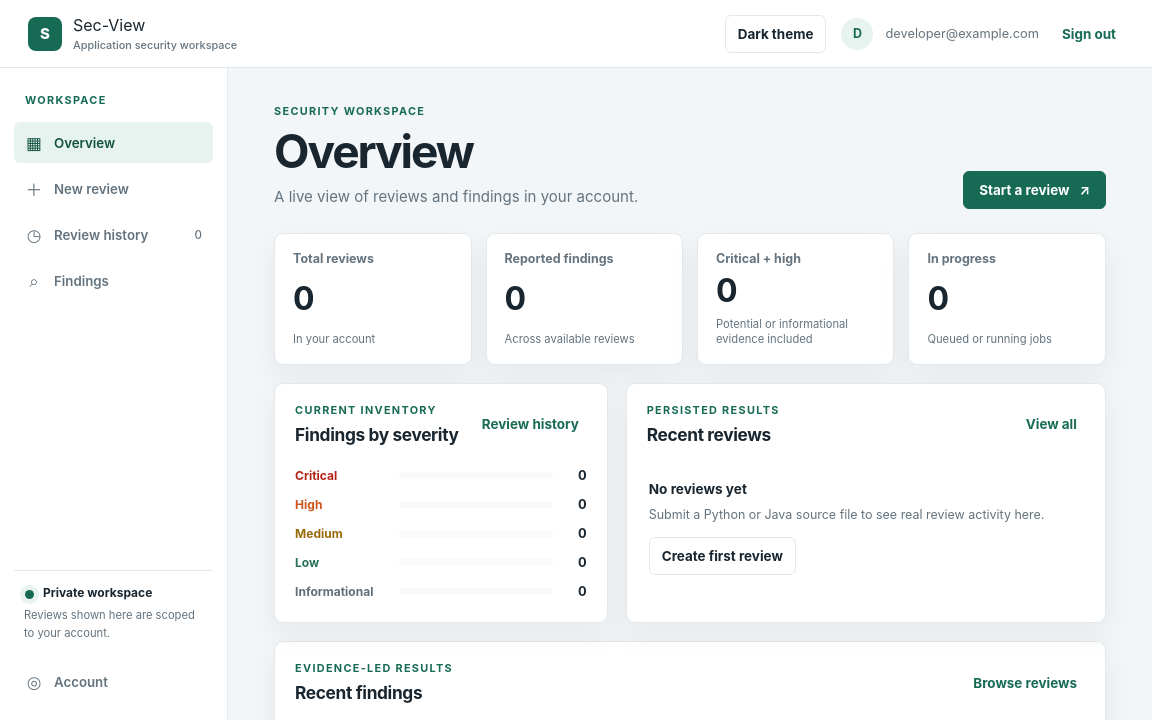
Test case: review workspace sections › submits Quick Analyze through the existing review API and renders actual findings
The width and height of the screenshot is (1152, 720).
Expected: the heading "Overview" is shown, top-left (274, 123), bottom-right (473, 179)
Click the button "＋ New review" at (114,188), box top-left (14, 168), bottom-right (213, 209)
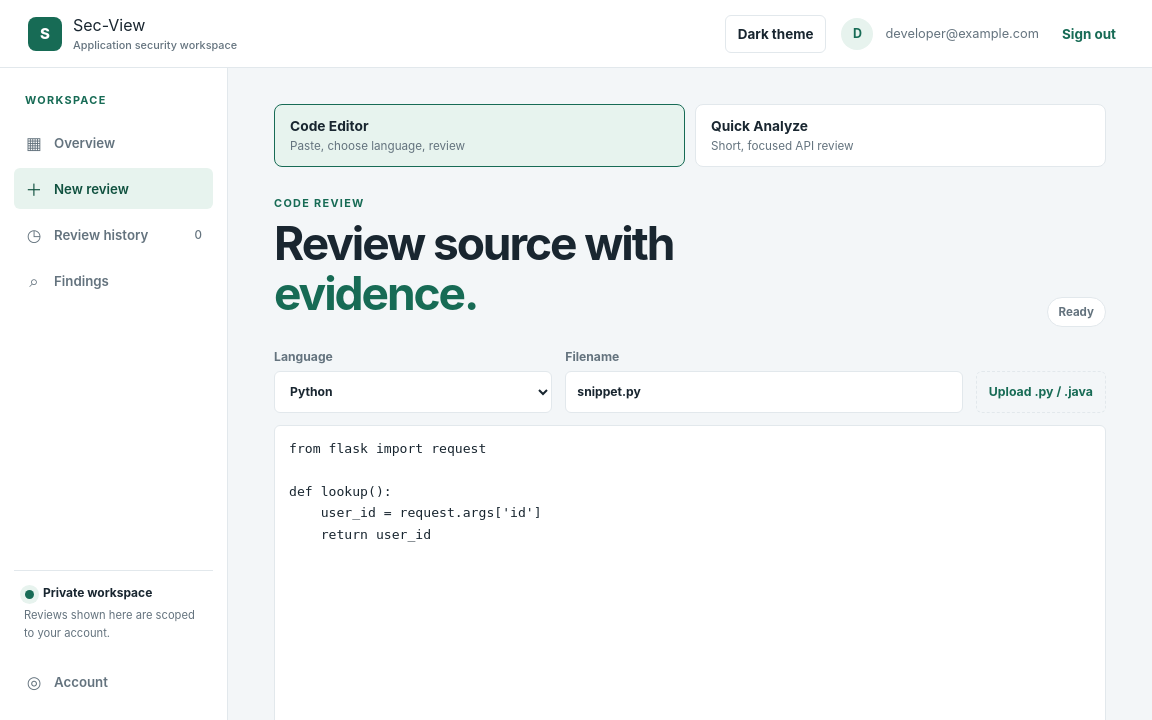
Click the button "Quick Analyze Short, focused API review" at (760,126), box top-left (695, 104), bottom-right (1106, 167)
(page scrolled)
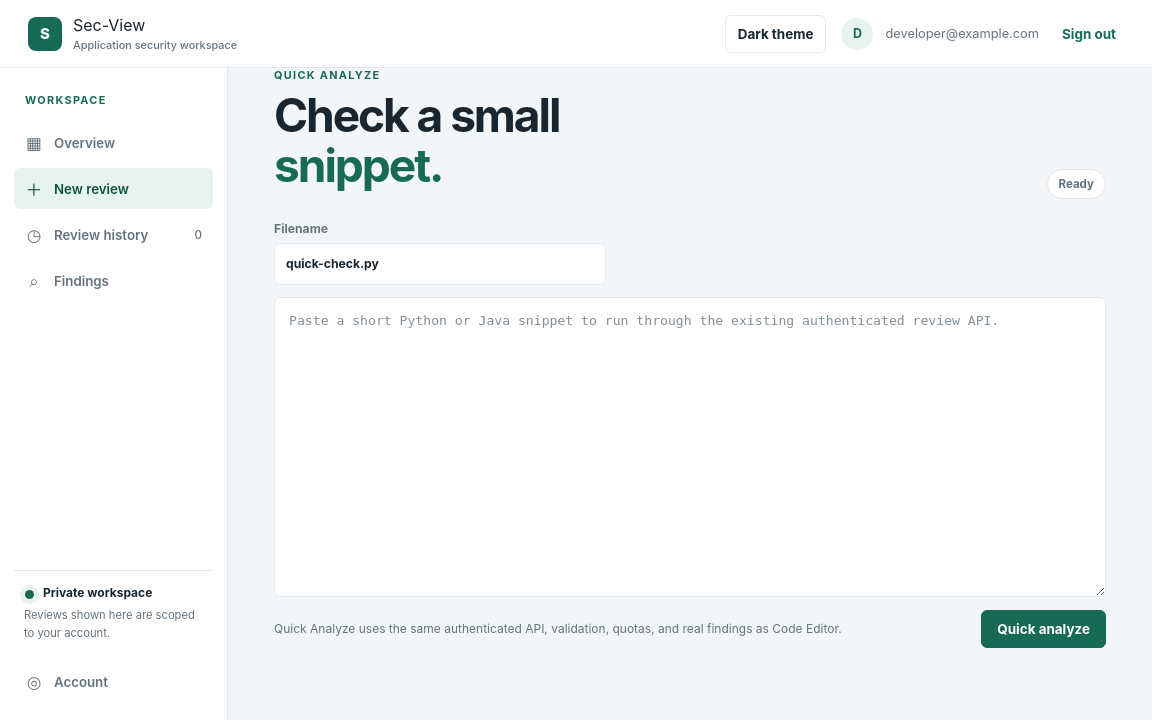
Replace the text in the text box named "Quick Analyze source code" with "cursor.execute(query)" at (690,446), box top-left (274, 296), bottom-right (1106, 596)
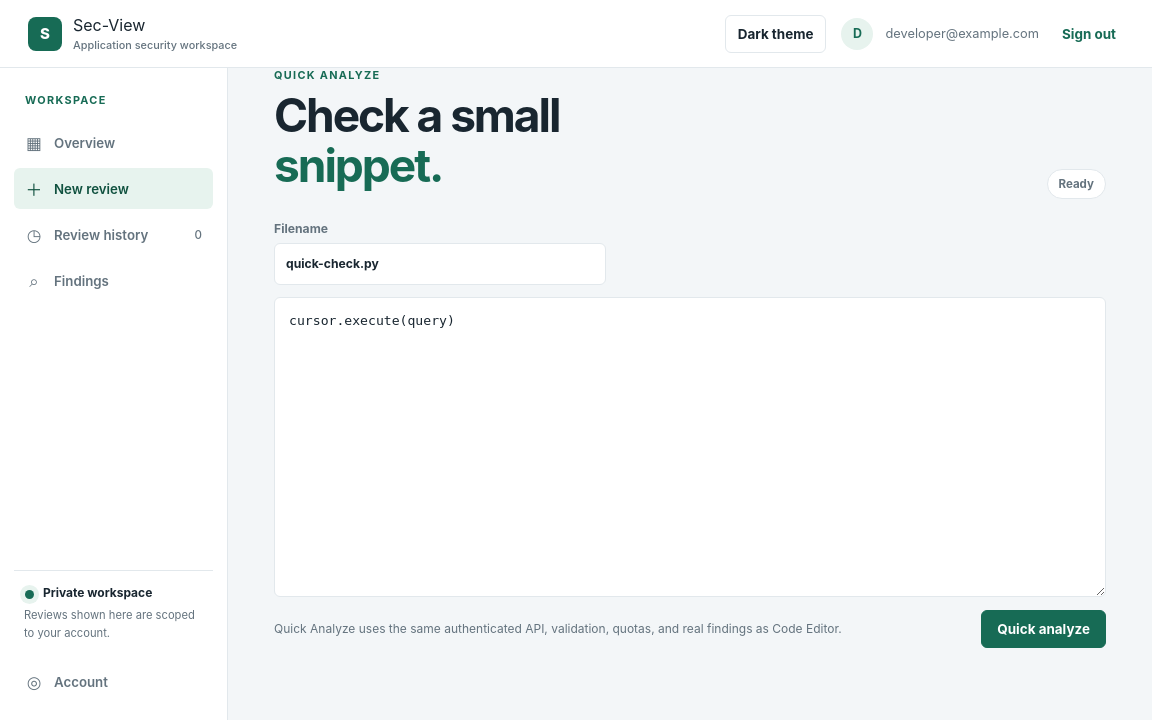
Click the button "Quick analyze" at (1044,628), box top-left (981, 610), bottom-right (1106, 648)
(page scrolled)
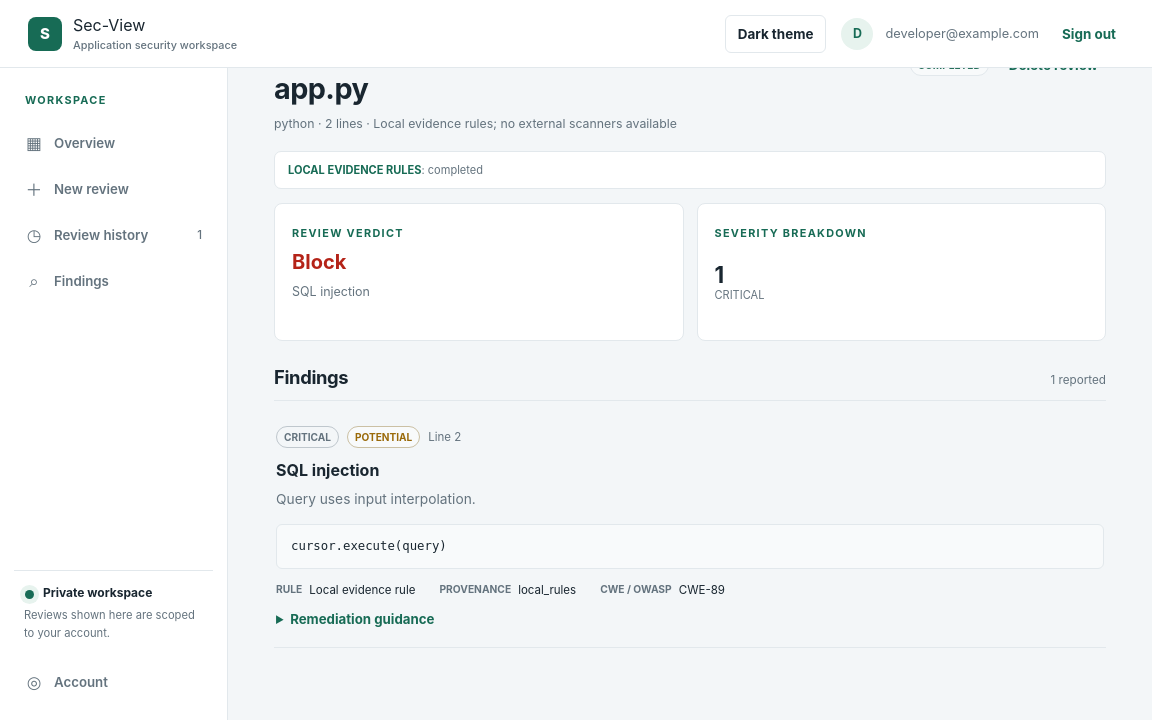
Expected: the heading "SQL injection" is shown, top-left (276, 460), bottom-right (379, 480)
Expected: the text "potential" is shown, top-left (347, 426), bottom-right (420, 448)
Expected: the text "cursor.execute(query)" is shown, top-left (276, 524), bottom-right (1104, 569)
